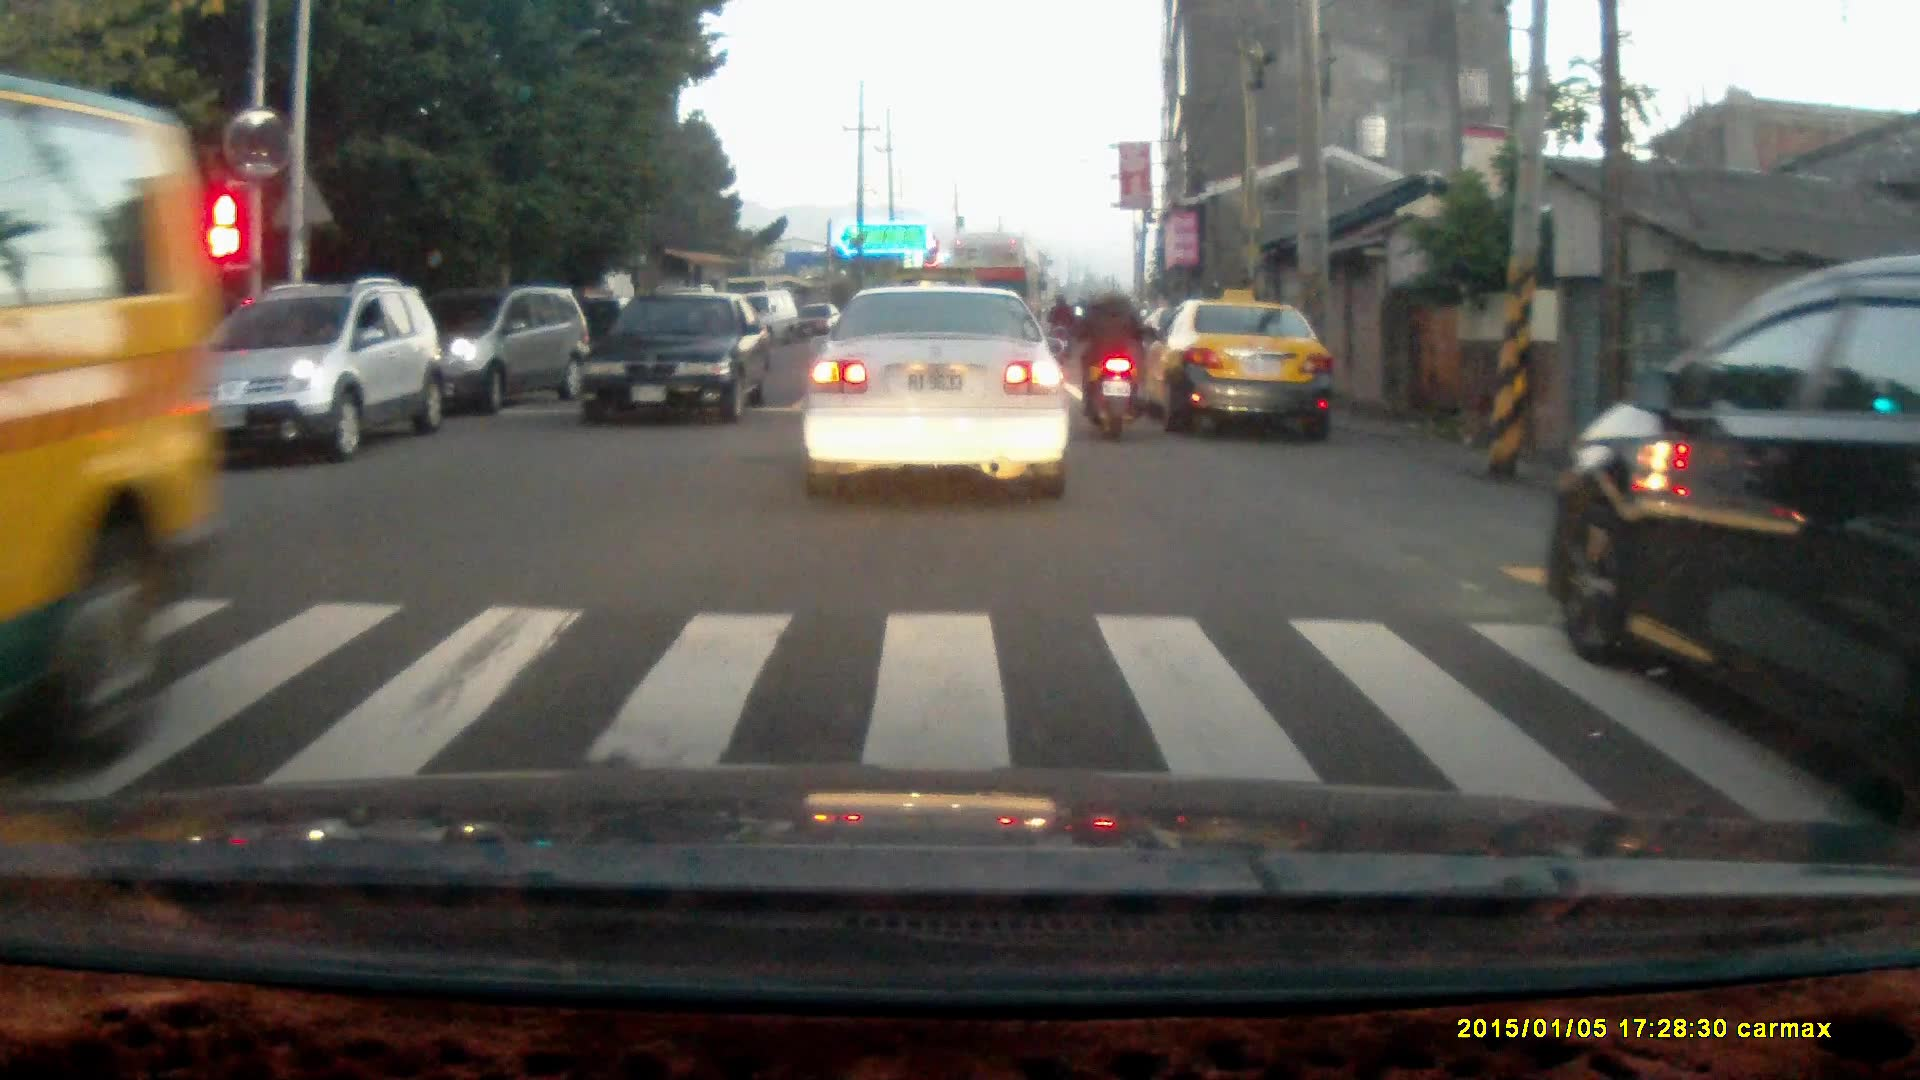rider: (1073, 273, 1150, 443)
vehicle: (1566, 271, 1920, 764), (3, 84, 225, 741), (803, 282, 1077, 502), (169, 281, 445, 466), (575, 286, 775, 430), (1146, 297, 1334, 438)
